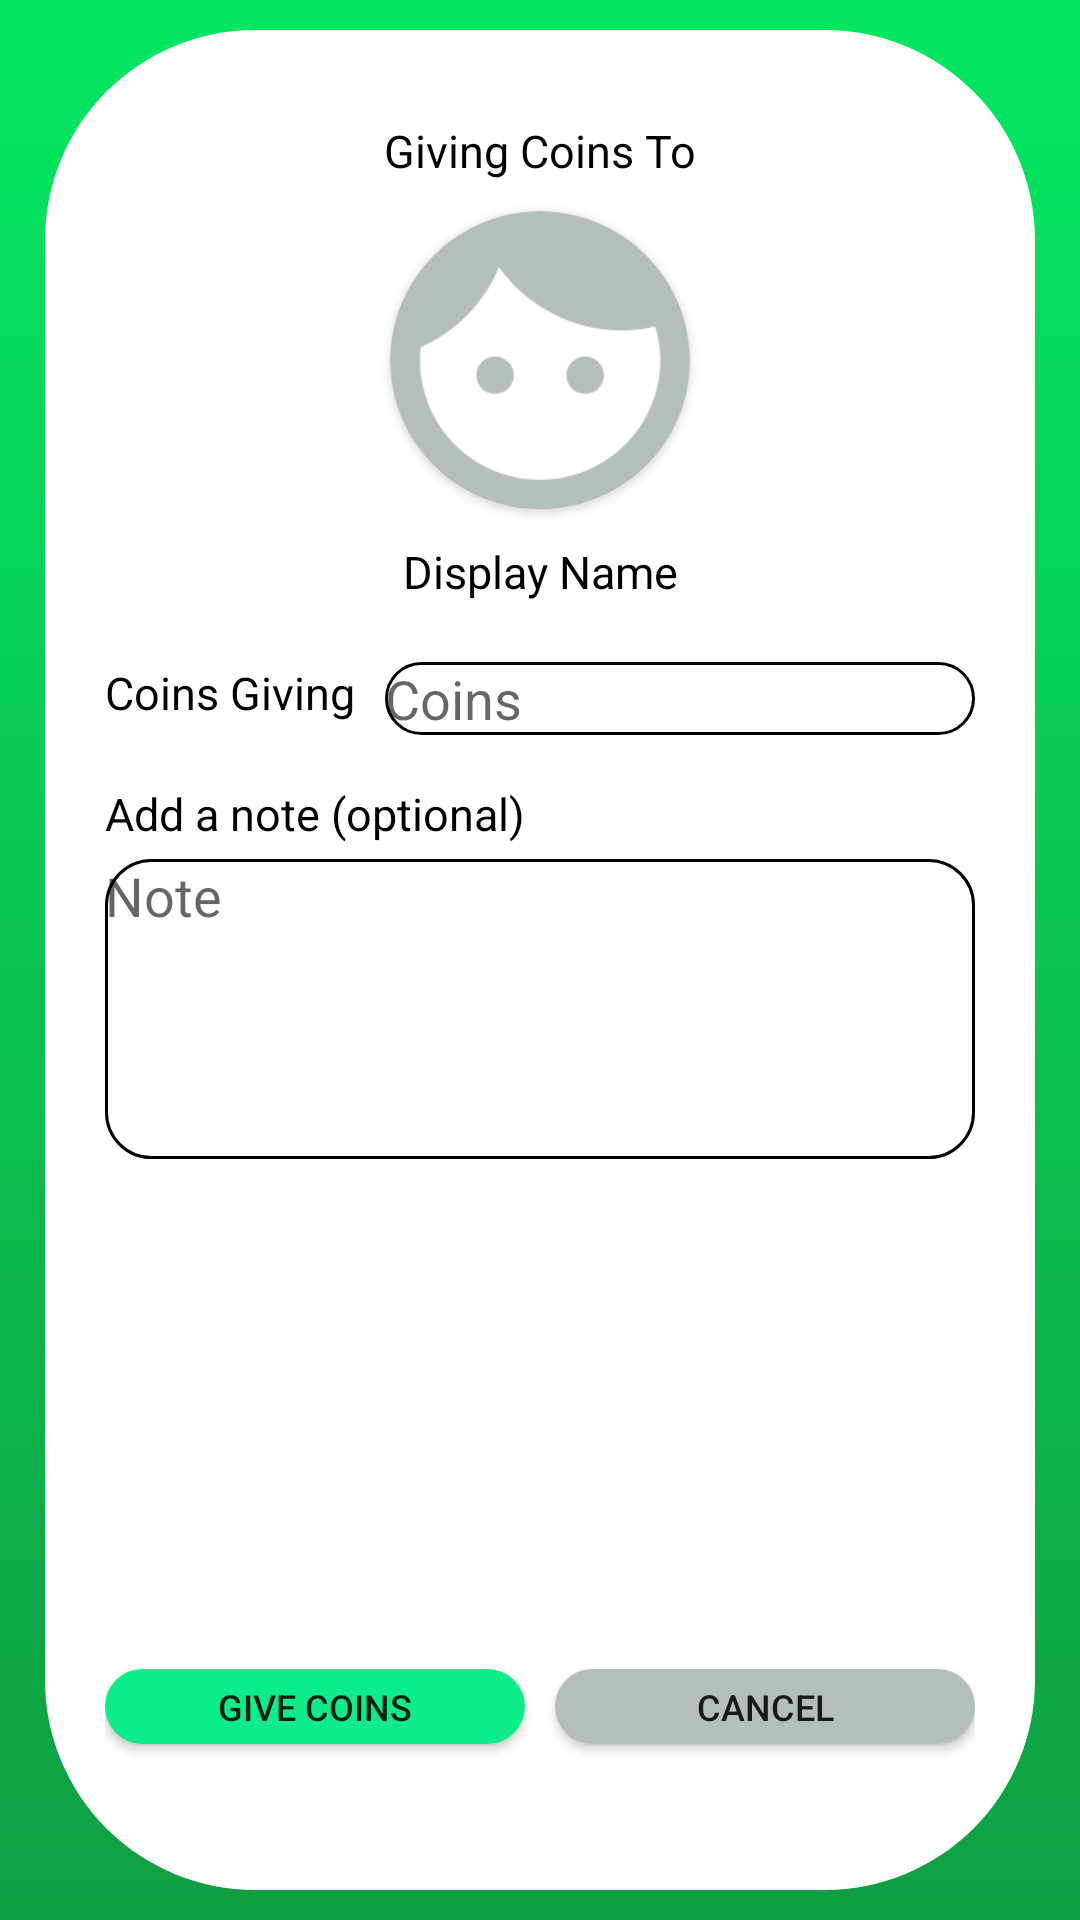

Named icons in this screenshot (1080×1920) and their centers, [x,y]:
User profile picture: [540,361]
